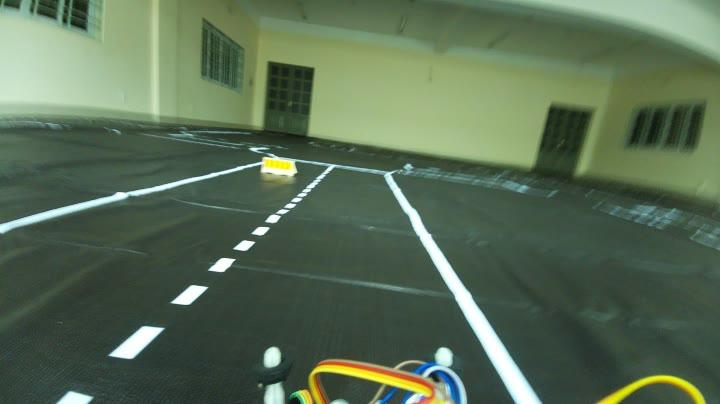roadblock: (260, 152, 300, 176)
